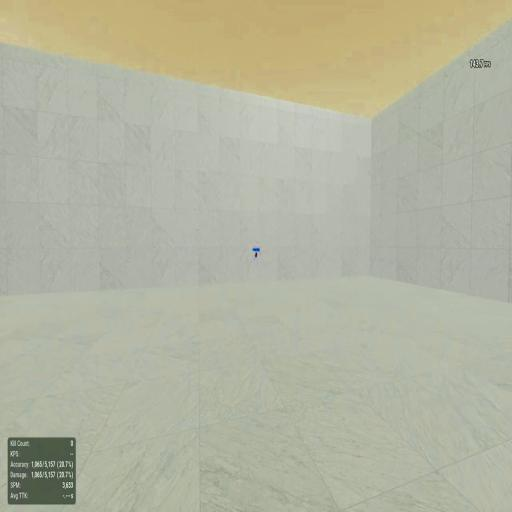Crosshair: (255, 254, 257, 258)
Target: (255, 252, 257, 257)
